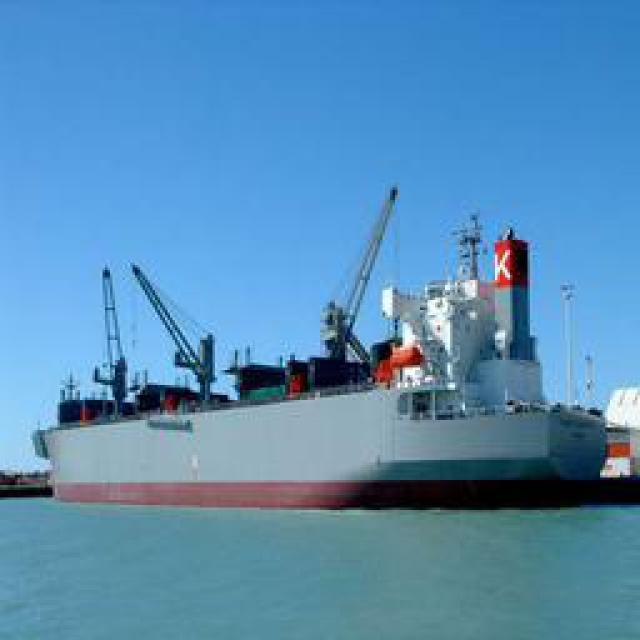Ship: (39, 181, 619, 494)
